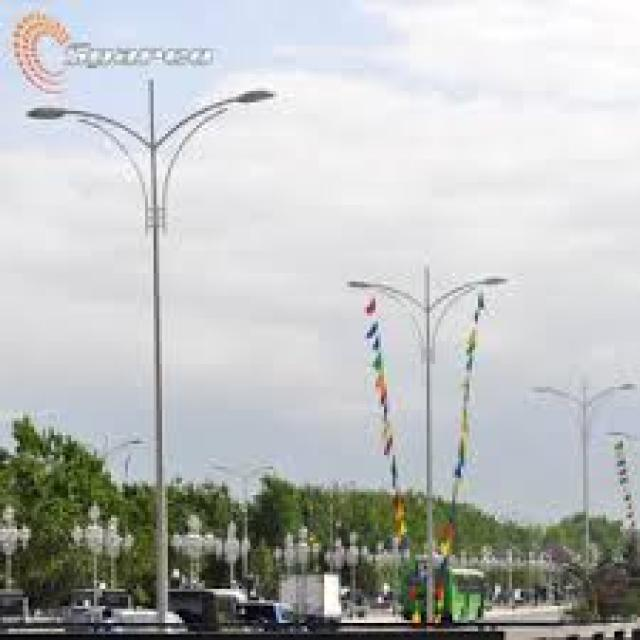Street Light: (23, 88, 276, 623), (347, 273, 506, 632), (529, 376, 634, 614)
